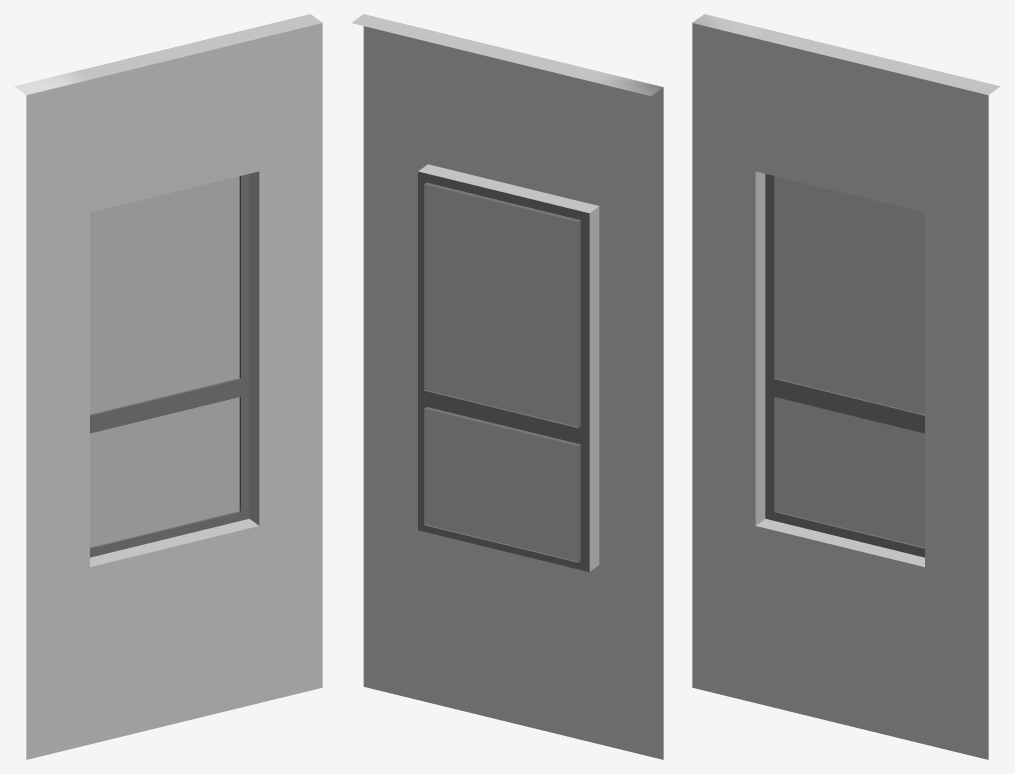
File: M_WallWindow350x750White80.FBX
3 renders of one model, left to right at view 1: azimuth 30°, elevation 25°; view 2: azimuth 150°, elevation 25°; view 3: azimuth 330°, elevation 25°, orthographic.
Visible parts, largest first — view 1: M_WallWindow350x750White80; view 2: M_WallWindow350x750White80; view 3: M_WallWindow350x750White80.
Part boxes in pixels (x1,y1,x2,y2): M_WallWindow350x750White80: (14, 14, 322, 759); M_WallWindow350x750White80: (352, 14, 663, 759); M_WallWindow350x750White80: (692, 14, 1000, 759).
Bounding box in the file's own units: 3.5 × 7.5 × 0.25.
